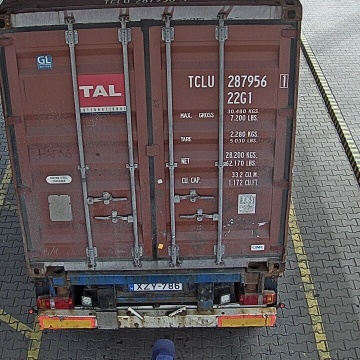serial_id: (188, 74, 288, 87)
